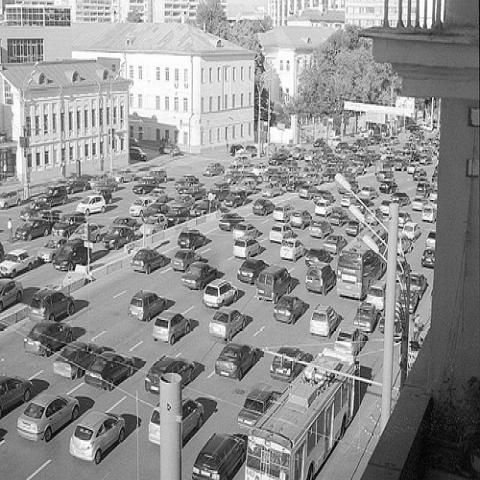bus: (246, 346, 360, 475), (339, 223, 387, 300)
car: (272, 294, 350, 339), (15, 391, 80, 444), (69, 411, 125, 467), (148, 395, 205, 447), (191, 433, 248, 480), (145, 355, 195, 396), (84, 352, 136, 391), (24, 319, 74, 358), (53, 342, 104, 380), (214, 340, 258, 382), (28, 287, 76, 322), (0, 374, 35, 419), (202, 276, 239, 308), (208, 310, 247, 338)
